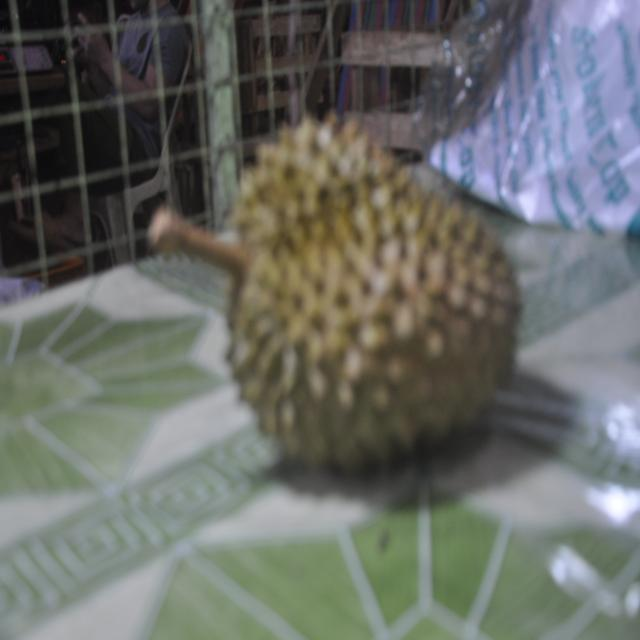mature: (150, 117, 519, 470)
